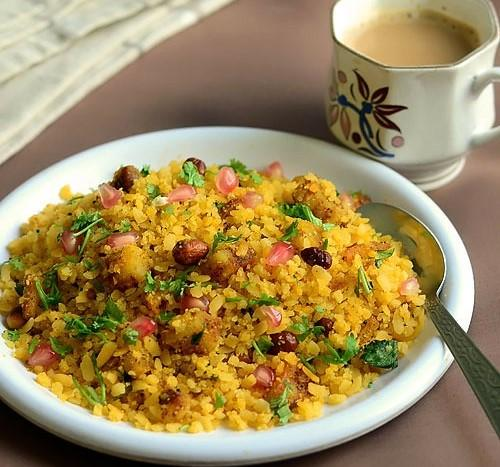Poha: (6, 161, 429, 432)
